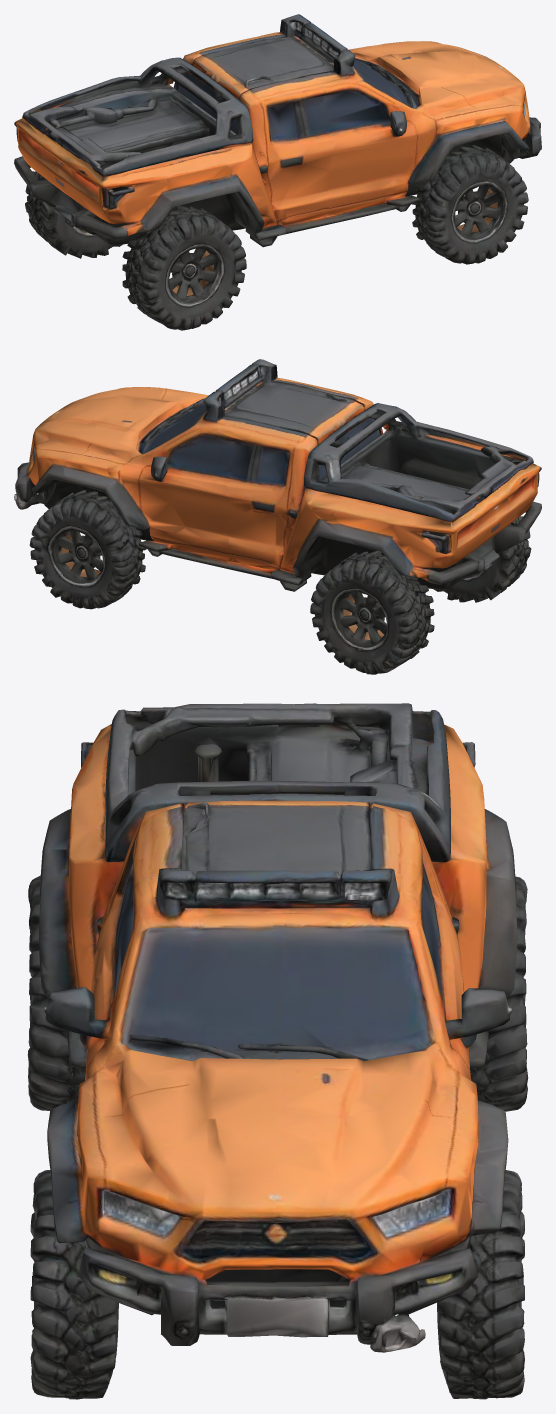
The model's file is tusk.glb.
The picture shows the model from 3 angles, top to bottom: view 1: azimuth 30°, elevation 25°; view 2: azimuth 150°, elevation 25°; view 3: azimuth 270°, elevation 25°; orthographic projection. The views are drawn at different scales.
Parts seen in each view (by area): view 1: node_383f0da5-d42b-4141-aa3a-84c48b5da42f; view 2: node_383f0da5-d42b-4141-aa3a-84c48b5da42f; view 3: node_383f0da5-d42b-4141-aa3a-84c48b5da42f.
Boxes of the visible parts, x1=… form: node_383f0da5-d42b-4141-aa3a-84c48b5da42f: x1=14, y1=14, x2=541, y2=330; node_383f0da5-d42b-4141-aa3a-84c48b5da42f: x1=14, y1=359, x2=541, y2=674; node_383f0da5-d42b-4141-aa3a-84c48b5da42f: x1=27, y1=703, x2=528, y2=1399.
Bounding box in the file's own units: 0.9995 × 0.4357 × 0.4695.
Materials: 1 (1 with a texture image).
